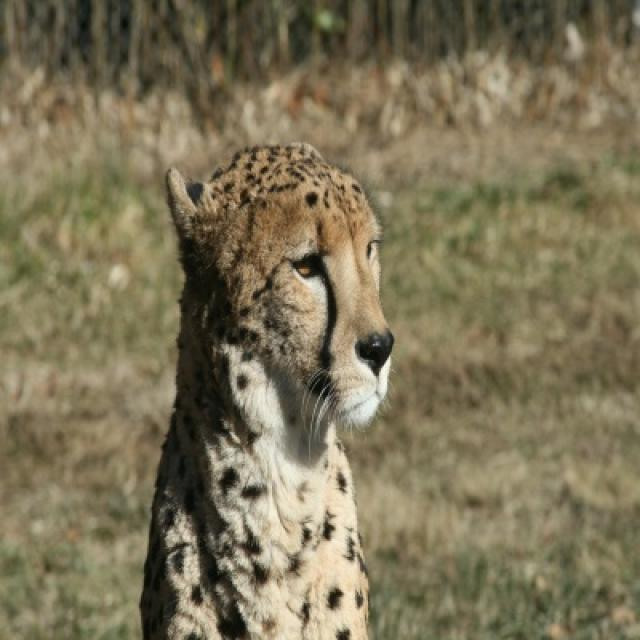Cheetah: (141, 142, 398, 638)
